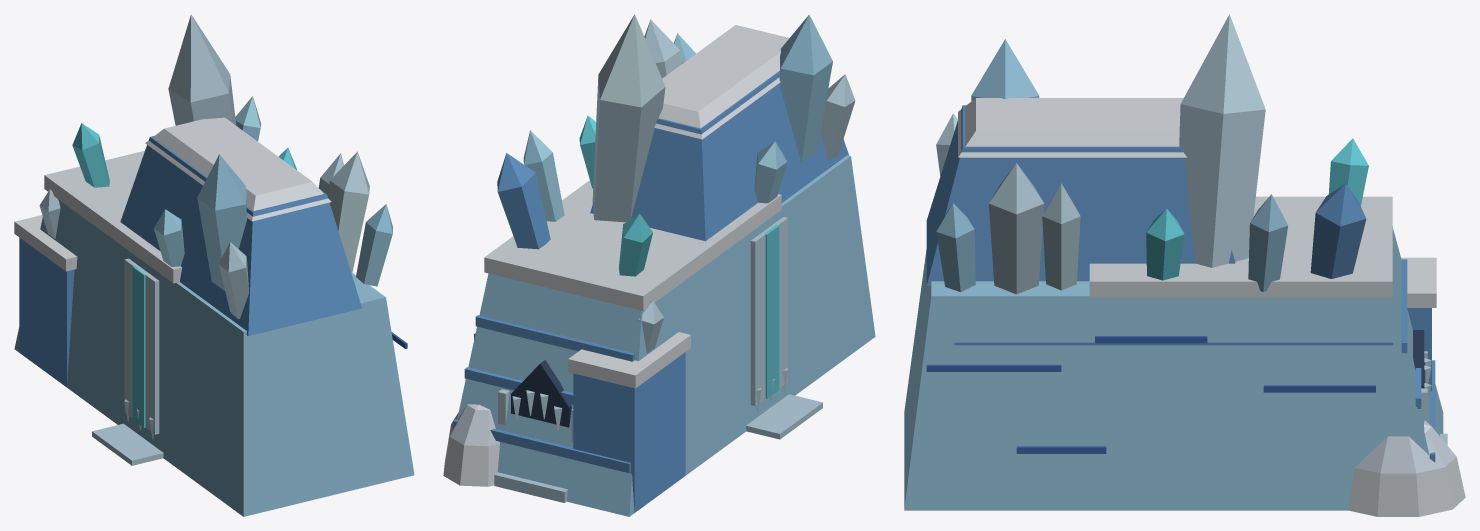
The model's file is Decor_IcePalace_Glacier.fbx.
The picture shows the model from 3 angles, left to right: view 1: azimuth 30°, elevation 25°; view 2: azimuth 150°, elevation 25°; view 3: azimuth 270°, elevation 25°; orthographic projection. The views are drawn at different scales.
Visible parts, largest first — view 1: Glacier_Body; view 2: Glacier_Body; view 3: Glacier_Body.
Part boxes in pixels (<box>): Glacier_Body: <box>14,14,414,516</box>; Glacier_Body: <box>443,14,875,516</box>; Glacier_Body: <box>904,14,1465,516</box>.
Size of the model in its own units: 12.9 by 22 by 25.
